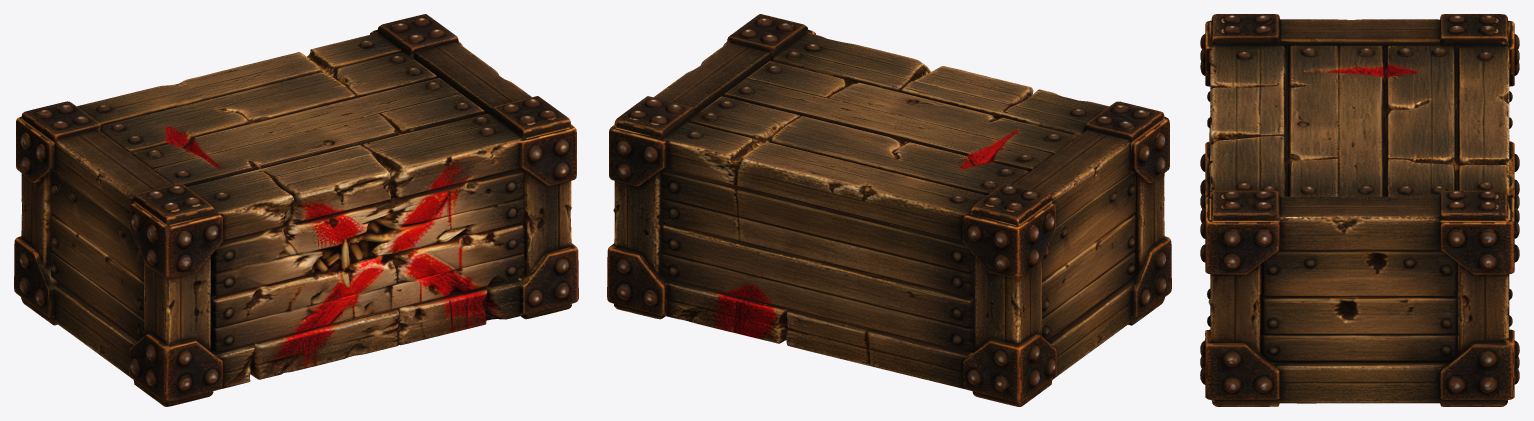
File: damaged_split.glb
3 views of the same model, side by side, from view 1: azimuth 30°, elevation 25°; view 2: azimuth 150°, elevation 25°; view 3: azimuth 270°, elevation 25° (orthographic).
Parts seen in each view (by area): view 1: Mesh_0; view 2: Mesh_0; view 3: Mesh_0.
Boxes of the visible parts, x1,y1,x2,y2 form: Mesh_0: [14, 14, 578, 406]; Mesh_0: [607, 14, 1171, 406]; Mesh_0: [1200, 14, 1519, 406].
Size of the model in its own units: 0.987 by 0.4391 by 0.6362.
2 materials, 2 textured.
